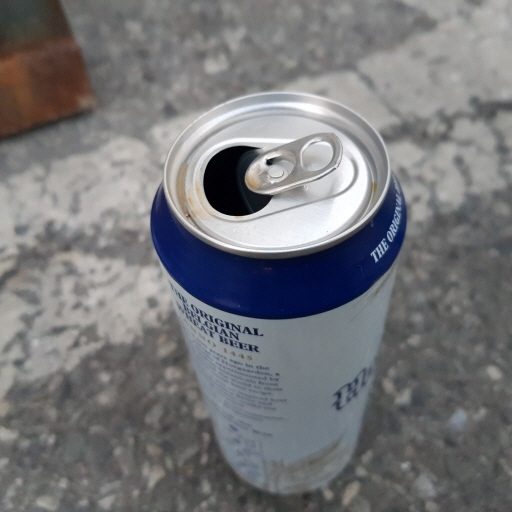Metal_0: (153, 91, 408, 497)
